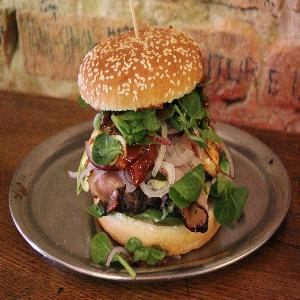cheeseburger: (68, 30, 236, 252)
